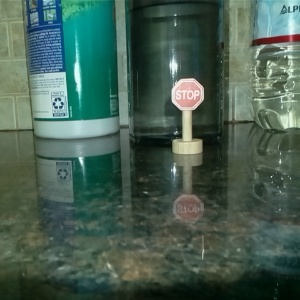stop sign: (169, 76, 205, 156)
